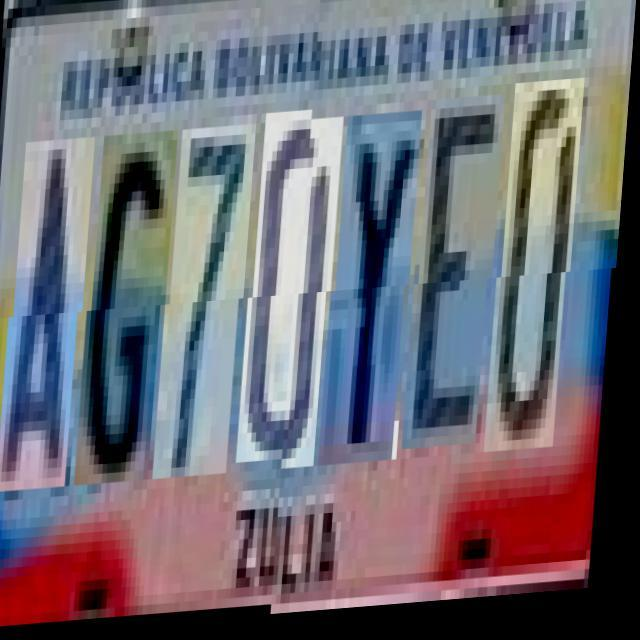0: (248, 123, 346, 477), (496, 88, 586, 461)
7: (164, 138, 258, 492)
A: (8, 148, 97, 502)
E: (414, 103, 508, 457)
G: (86, 143, 180, 497)
Y: (330, 118, 430, 472)
